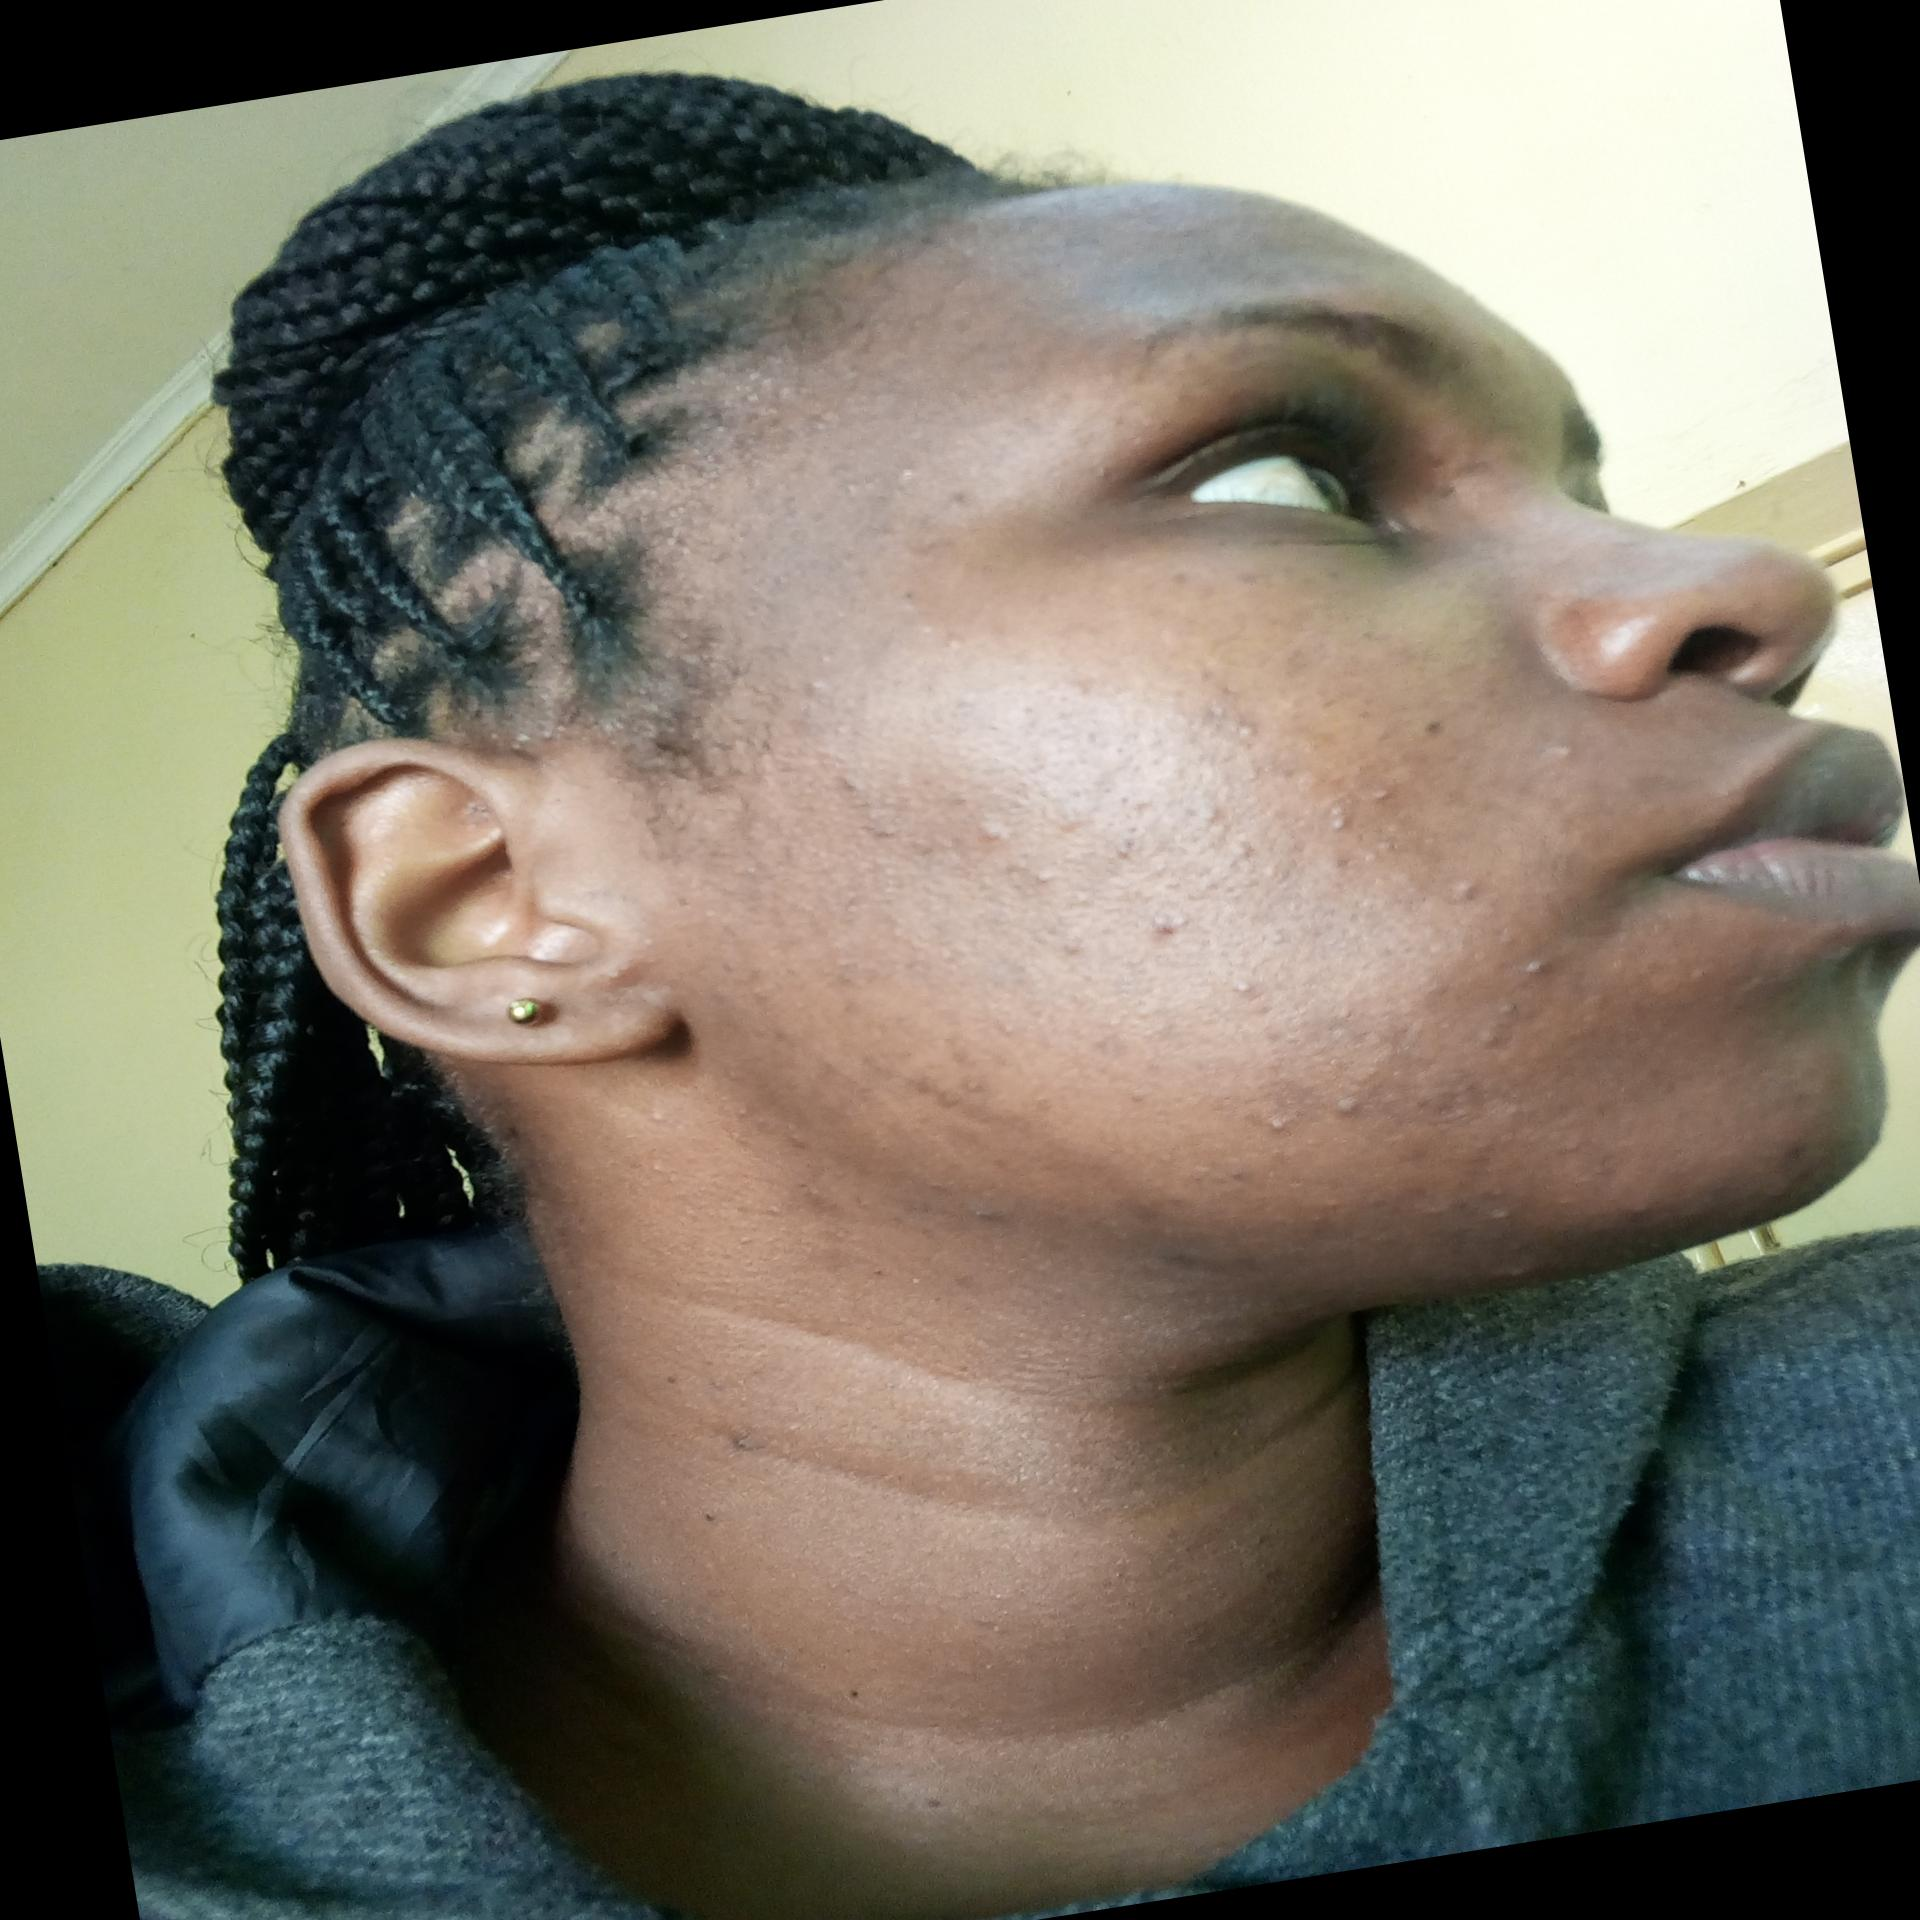Acne: (823, 1029, 997, 1143), (1317, 765, 1431, 853), (1412, 1074, 1512, 1139), (1132, 870, 1201, 962), (967, 1034, 1041, 1111), (846, 809, 932, 869), (900, 489, 995, 542), (1218, 955, 1291, 1023), (1034, 911, 1102, 979), (1241, 1101, 1319, 1159), (818, 763, 891, 812), (877, 448, 948, 499), (1187, 793, 1248, 849), (1771, 1124, 1841, 1169), (1006, 858, 1073, 904), (1523, 948, 1584, 992), (795, 661, 840, 716), (1468, 1016, 1523, 1058), (1611, 1185, 1663, 1227), (1336, 1083, 1378, 1134), (974, 805, 1020, 849), (1451, 874, 1496, 914), (1477, 1182, 1514, 1224), (1561, 735, 1591, 775), (840, 478, 874, 512), (1505, 1261, 1535, 1296)
Dark Circles: (1122, 464, 1452, 607)
